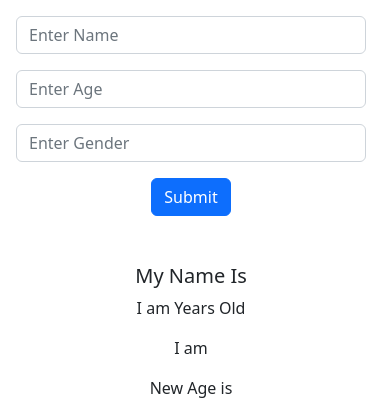
it: can change name
The image size is (383, 415).
Type "Qais" into the field with test id "parson-name" at (191, 35), box [16,16,366,54]
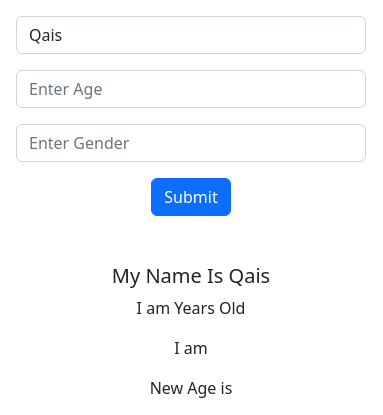
Expected: the heading with test id "name" reads "My Name Is Qais", [112,262,270,289]
